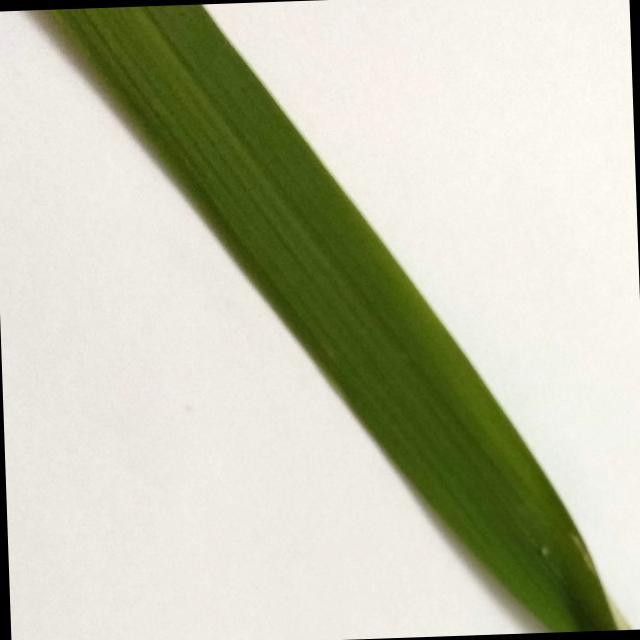Rice_Healthy: (47, 4, 619, 632)
